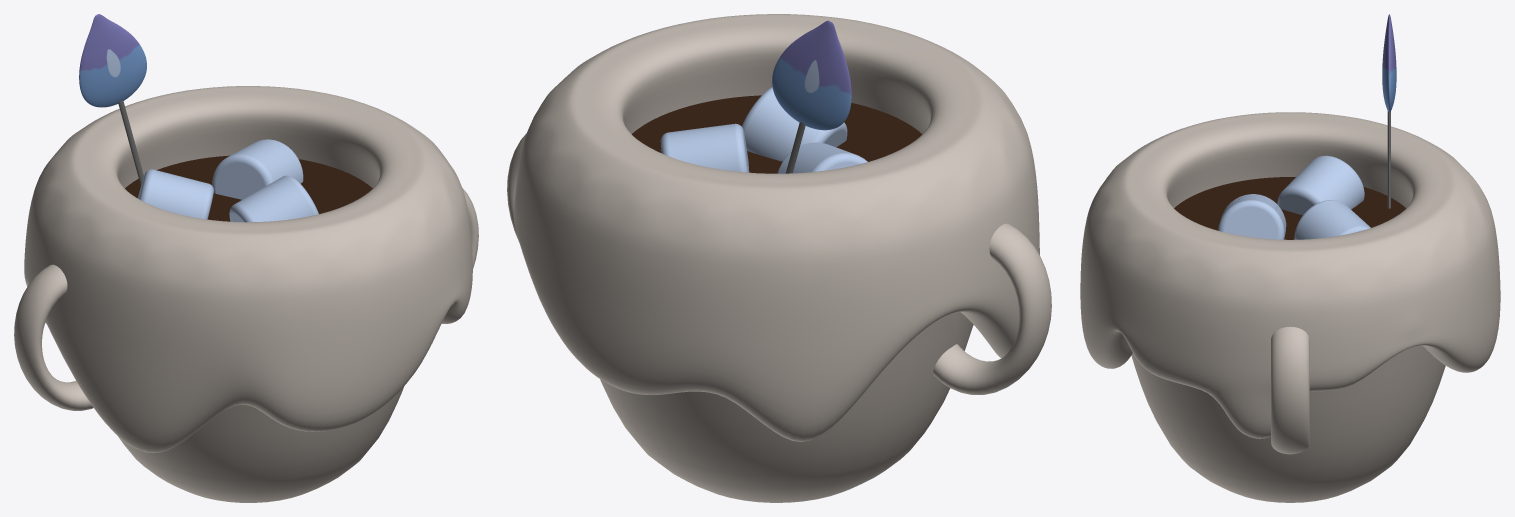
File: litwick_cocoa_09-06-21.glb
3 views of the same model, side by side, from view 1: azimuth 30°, elevation 25°; view 2: azimuth 150°, elevation 25°; view 3: azimuth 270°, elevation 25° (orthographic). The views are drawn at different scales.
Parts seen in each view (by area): view 1: l_handle, flame, drink, marshmellow2, marshmellow3, marshmellow, wick; view 2: l_handle, drink, flame, marshmellow3, marshmellow2, marshmellow; view 3: l_handle, drink, marshmellow, marshmellow3, marshmellow2, flame.
Part boxes in pixels (x1,y1,x2,y2): l_handle: (14, 86, 478, 502); flame: (79, 14, 146, 107); drink: (125, 155, 372, 221); marshmellow2: (212, 139, 303, 199); marshmellow3: (229, 175, 318, 222); marshmellow: (138, 169, 213, 219); wick: (118, 100, 143, 185); l_handle: (507, 14, 1051, 502); drink: (631, 95, 922, 173); flame: (772, 20, 851, 130); marshmellow3: (741, 87, 847, 161); marshmellow2: (660, 123, 749, 172); marshmellow: (777, 142, 867, 173); l_handle: (1080, 112, 1500, 502); drink: (1174, 177, 1405, 239); marshmellow: (1277, 155, 1364, 215); marshmellow3: (1218, 194, 1286, 239); marshmellow2: (1294, 200, 1370, 239); flame: (1382, 14, 1396, 113).
Size of the model in its own units: 6.11 by 5.72 by 5.21.
Materials: 5 (2 with a texture image).
